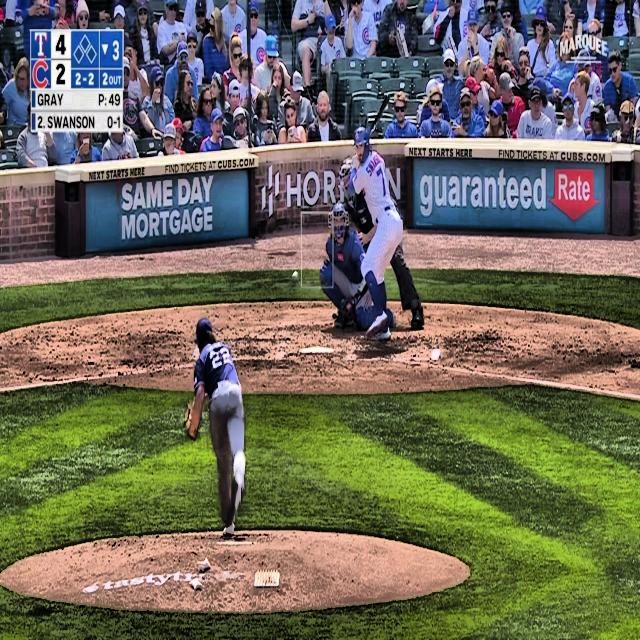baseball: (291, 270, 299, 280)
